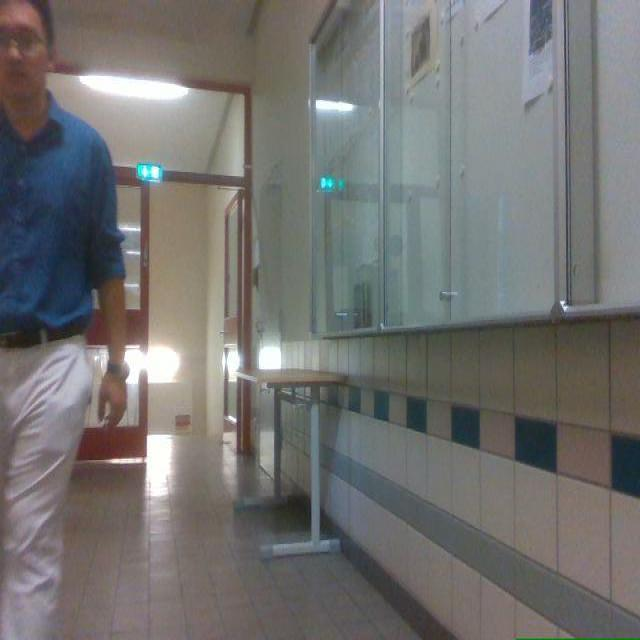humans: (0, 0, 126, 639)
objects: (237, 368, 345, 557)
